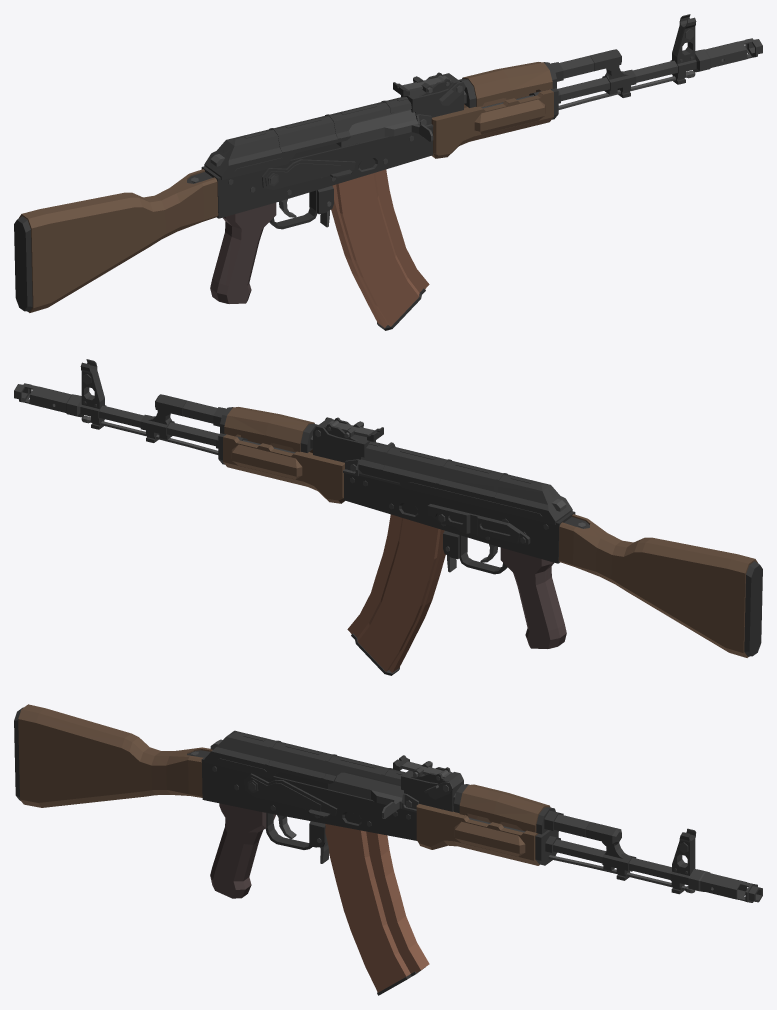
The picture shows the model from 3 angles, top to bottom: view 1: azimuth 30°, elevation 25°; view 2: azimuth 150°, elevation 25°; view 3: azimuth 330°, elevation 25°; orthographic projection.
Parts seen in each view (by area): view 1: Object_24; view 2: Object_24; view 3: Object_24.
Part boxes in pixels (left/top/right/bottom): Object_24: left=14, top=14, right=762, bottom=330; Object_24: left=14, top=359, right=762, bottom=675; Object_24: left=14, top=704, right=762, bottom=995.
Size of the model in its own units: 10.77 by 3.31 by 0.9414.
